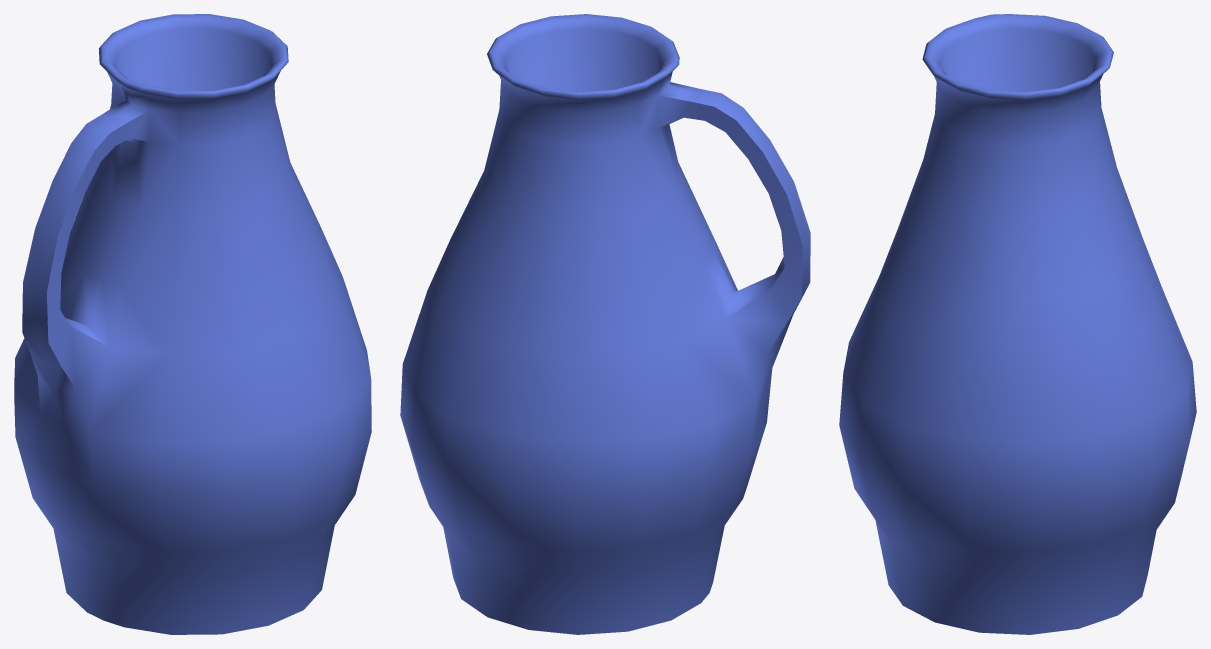
The model's file is jug.fbx.
The picture shows the model from 3 angles, left to right: view 1: azimuth 30°, elevation 25°; view 2: azimuth 150°, elevation 25°; view 3: azimuth 270°, elevation 25°; orthographic projection.
Visible parts, largest first — view 1: jug; view 2: jug; view 3: jug.
Boxes of the visible parts, bbox=[...] form: jug: bbox=[14, 14, 371, 634]; jug: bbox=[400, 14, 810, 634]; jug: bbox=[839, 14, 1196, 634].
Size of the model in its own units: 940 by 1343 by 825.
